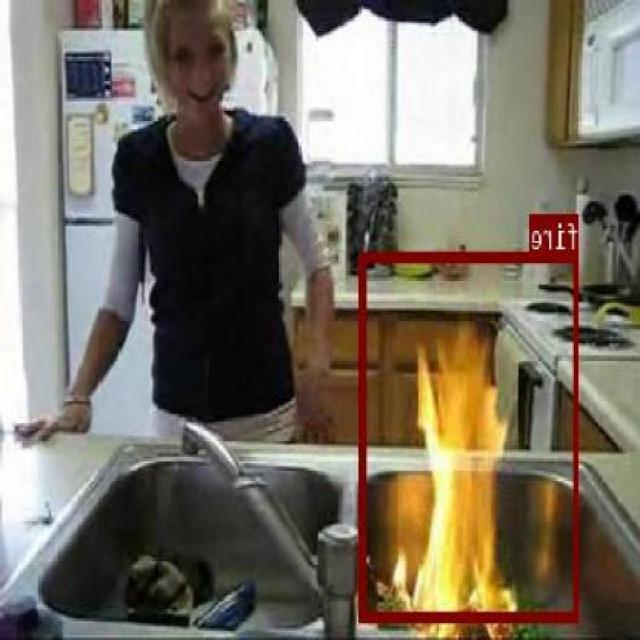Fire: (361, 251, 581, 620)
